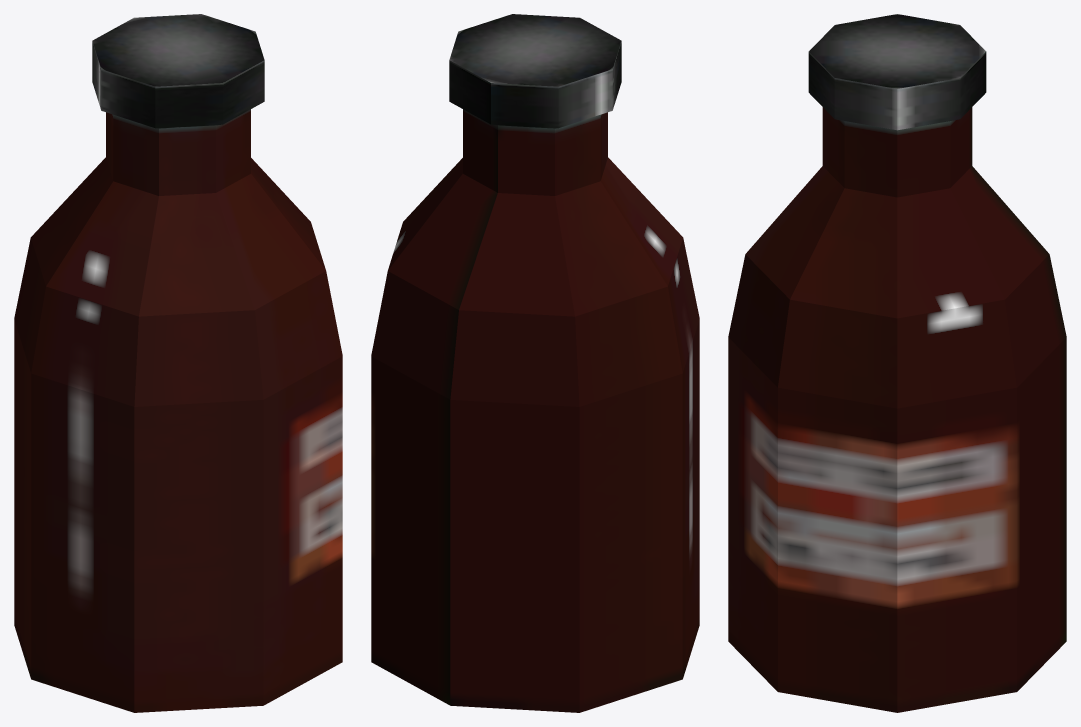
Rendered from jar_large_8.fbx.
The picture shows the model from 3 angles, left to right: view 1: azimuth 30°, elevation 25°; view 2: azimuth 150°, elevation 25°; view 3: azimuth 270°, elevation 25°; orthographic projection.
Visible parts, largest first — view 1: mesh_0; view 2: mesh_0; view 3: mesh_0.
Boxes of the visible parts, bbox=[...] form: mesh_0: bbox=[14, 14, 342, 712]; mesh_0: bbox=[371, 14, 699, 712]; mesh_0: bbox=[728, 14, 1066, 712].
Bounding box in the file's own units: 15.6 × 30 × 15.6.
1 material, 1 textured.
